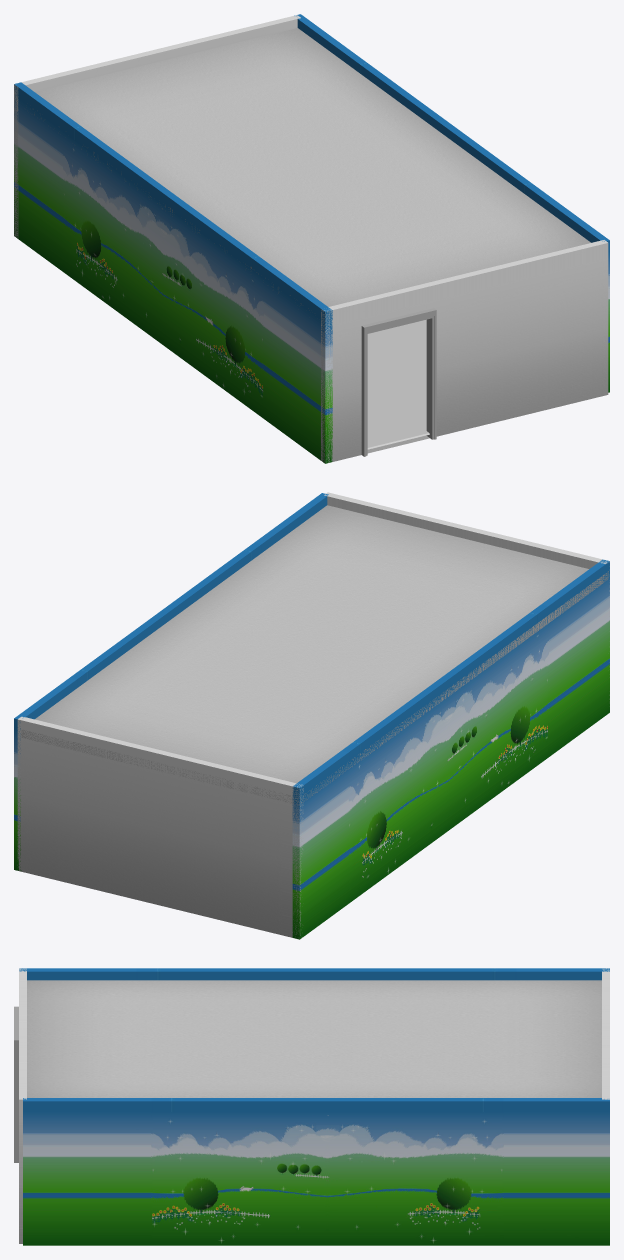
Rendered from Level-KidsRoom.fbx.
3 renders of one model, top to bottom at view 1: azimuth 30°, elevation 25°; view 2: azimuth 150°, elevation 25°; view 3: azimuth 270°, elevation 25°, orthographic. The views are drawn at different scales.
Parts seen in each view (by area): view 1: cube150, cube147, cube145, cube149, cube146, cube148, polymsh47; view 2: cube150, cube147, cube148, cube146, cube145; view 3: cube146, cube150, cube147, cube145, cube148, polymsh47.
Boxes of the visible parts, x1,y1,x2,y2 form: cube150: (33, 28, 590, 310); cube147: (14, 82, 332, 463); cube145: (321, 240, 608, 462); cube149: (367, 319, 429, 449); cube146: (294, 14, 609, 392); cube148: (14, 15, 300, 238); polymsh47: (361, 308, 436, 456); cube150: (21, 505, 608, 803); cube147: (292, 559, 609, 939); cube148: (17, 716, 303, 938); cube146: (14, 493, 328, 871); cube145: (324, 492, 609, 699); cube146: (23, 1098, 609, 1245); cube150: (27, 980, 601, 1097); cube147: (19, 968, 609, 980); cube145: (19, 968, 26, 1243); cube148: (602, 968, 609, 1099); polymsh47: (14, 1006, 18, 1162).
Bounding box in the file's own units: 19.75 × 10 × 37.43.
